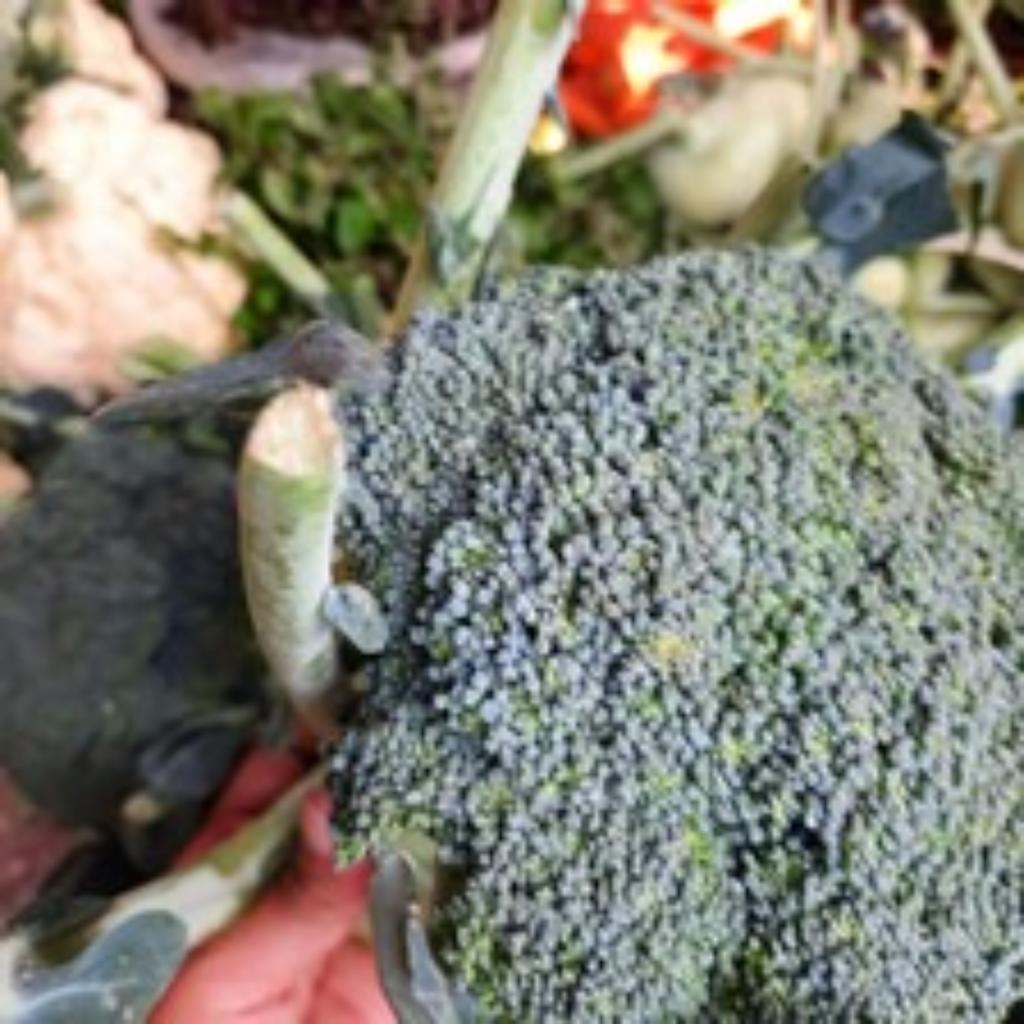Broccoli: (334, 256, 1024, 1024), (334, 256, 1024, 1023)
